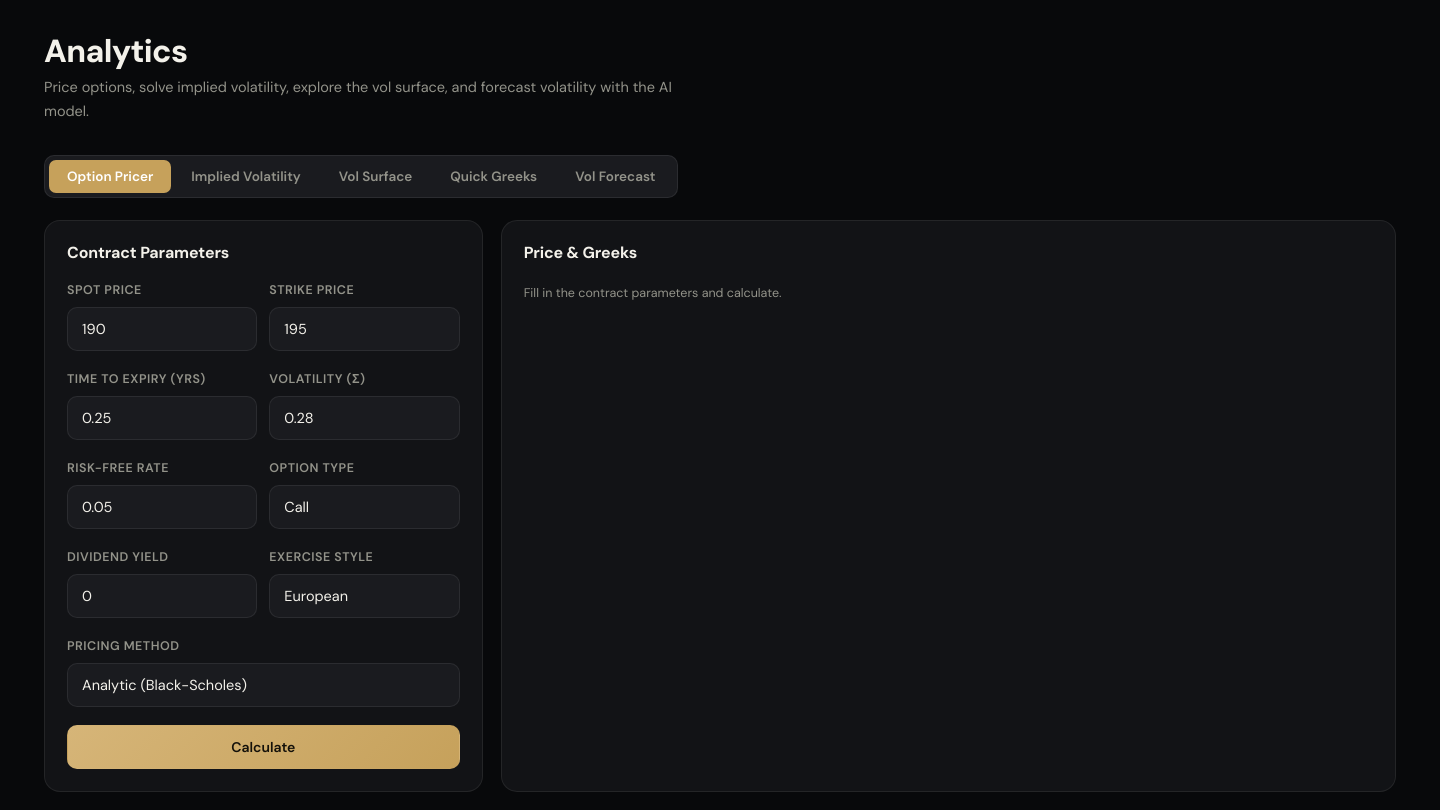
Option pricer › shows the result grid
The image size is (1440, 810).
Click the button "Calculate": (263, 747) [67,725,460,769]
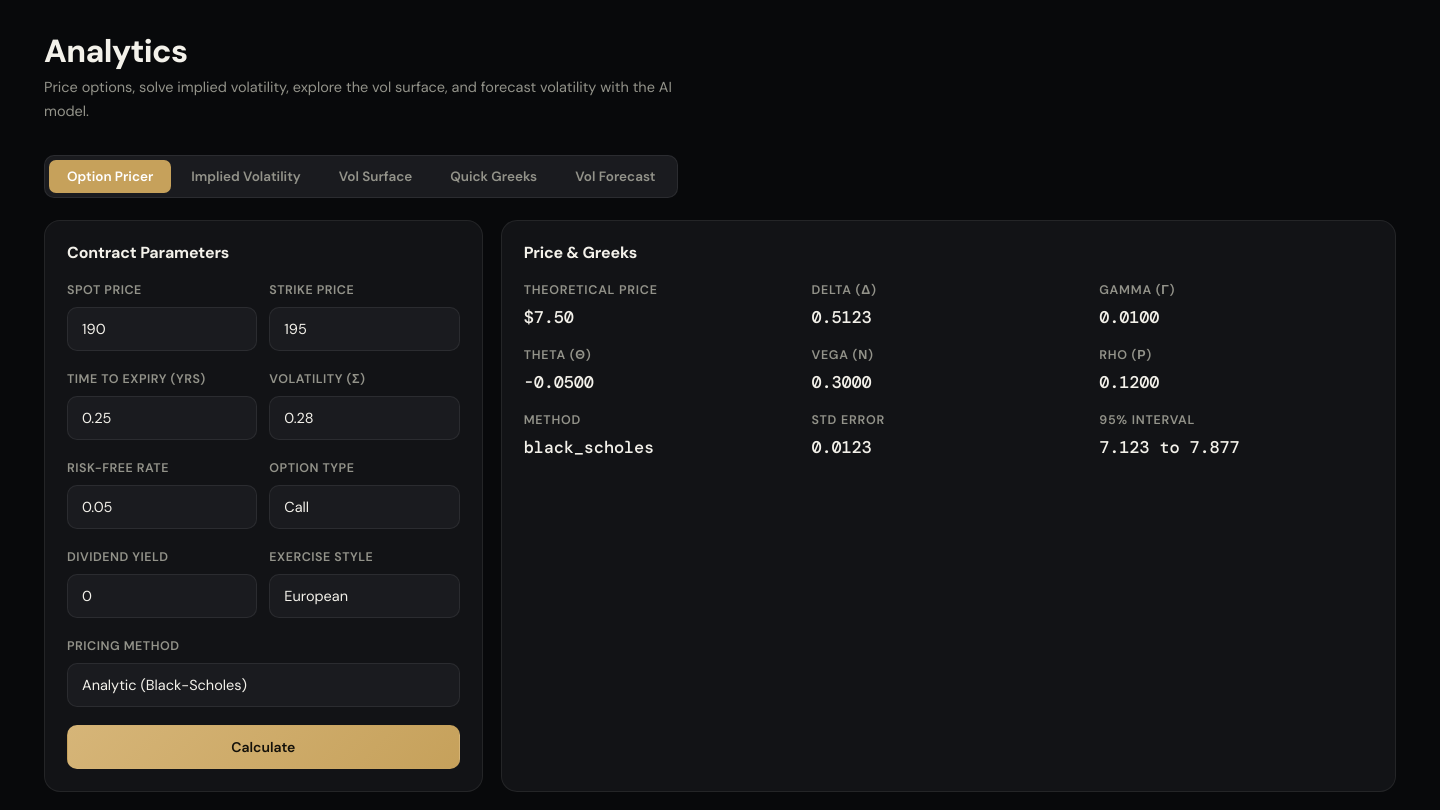
Check: the text "$7.50" is shown, box [524,306,574,328]
Check: the text "0.5123" is shown, box [811,306,872,328]
Check: the text "-0.0500" is shown, box [524,371,594,393]
